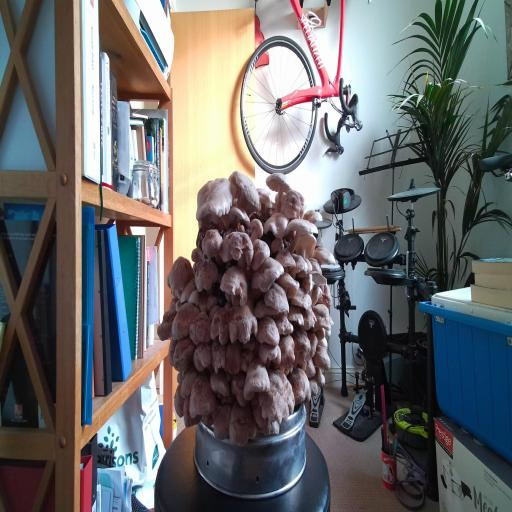Shiitake Mushroom: (214, 164, 274, 220), (240, 246, 293, 302), (274, 204, 328, 254), (163, 291, 206, 350), (155, 249, 203, 301), (194, 171, 236, 230), (257, 160, 299, 214), (163, 328, 204, 381), (218, 223, 258, 273), (259, 369, 295, 424), (255, 277, 301, 320), (238, 230, 280, 274), (238, 354, 273, 403), (292, 261, 334, 301), (282, 319, 316, 366), (291, 327, 324, 375), (270, 262, 307, 304), (172, 393, 207, 437), (186, 370, 217, 419), (285, 361, 315, 411), (228, 399, 258, 448), (228, 302, 259, 346), (290, 223, 321, 266), (220, 265, 248, 307), (271, 242, 302, 278), (175, 361, 201, 403), (193, 257, 219, 296), (155, 301, 178, 345), (211, 400, 233, 443), (286, 284, 318, 312), (188, 310, 212, 346), (175, 275, 201, 308), (223, 203, 256, 229), (247, 394, 269, 432), (287, 250, 311, 284), (280, 188, 304, 221), (250, 295, 281, 320), (201, 227, 223, 262), (224, 337, 243, 377), (256, 315, 280, 346), (254, 181, 275, 216), (210, 307, 229, 345), (278, 334, 296, 374), (209, 336, 227, 375), (191, 340, 212, 373), (258, 342, 282, 370), (264, 212, 289, 238), (310, 245, 339, 267), (304, 281, 327, 308), (187, 286, 209, 313), (231, 371, 247, 408), (313, 303, 334, 331), (246, 214, 266, 243), (210, 369, 230, 398), (309, 365, 330, 392), (265, 233, 289, 256), (259, 417, 283, 439), (318, 280, 334, 312), (301, 303, 318, 332), (301, 357, 320, 382), (188, 242, 206, 268), (200, 291, 222, 312), (274, 313, 294, 336), (313, 345, 331, 370), (239, 347, 255, 375), (301, 207, 325, 225), (173, 383, 185, 418), (305, 256, 327, 275), (165, 336, 178, 367), (287, 305, 304, 326), (312, 325, 330, 343), (309, 377, 319, 398), (318, 298, 321, 304)
